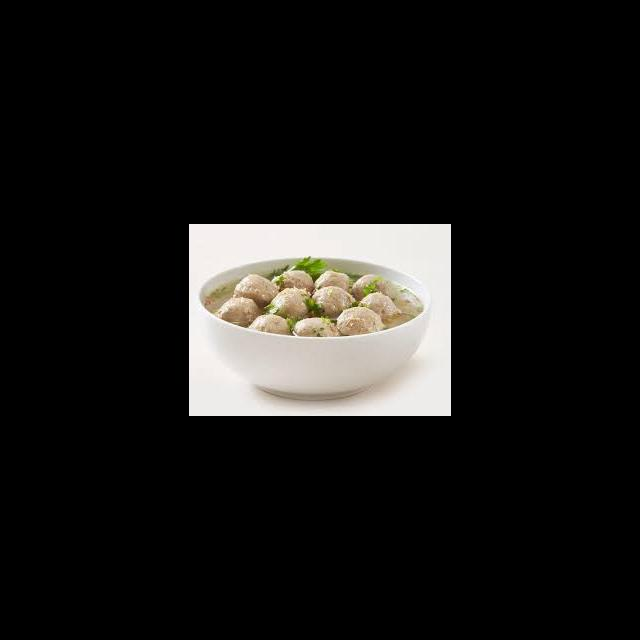food_waste: (255, 281, 379, 323)
